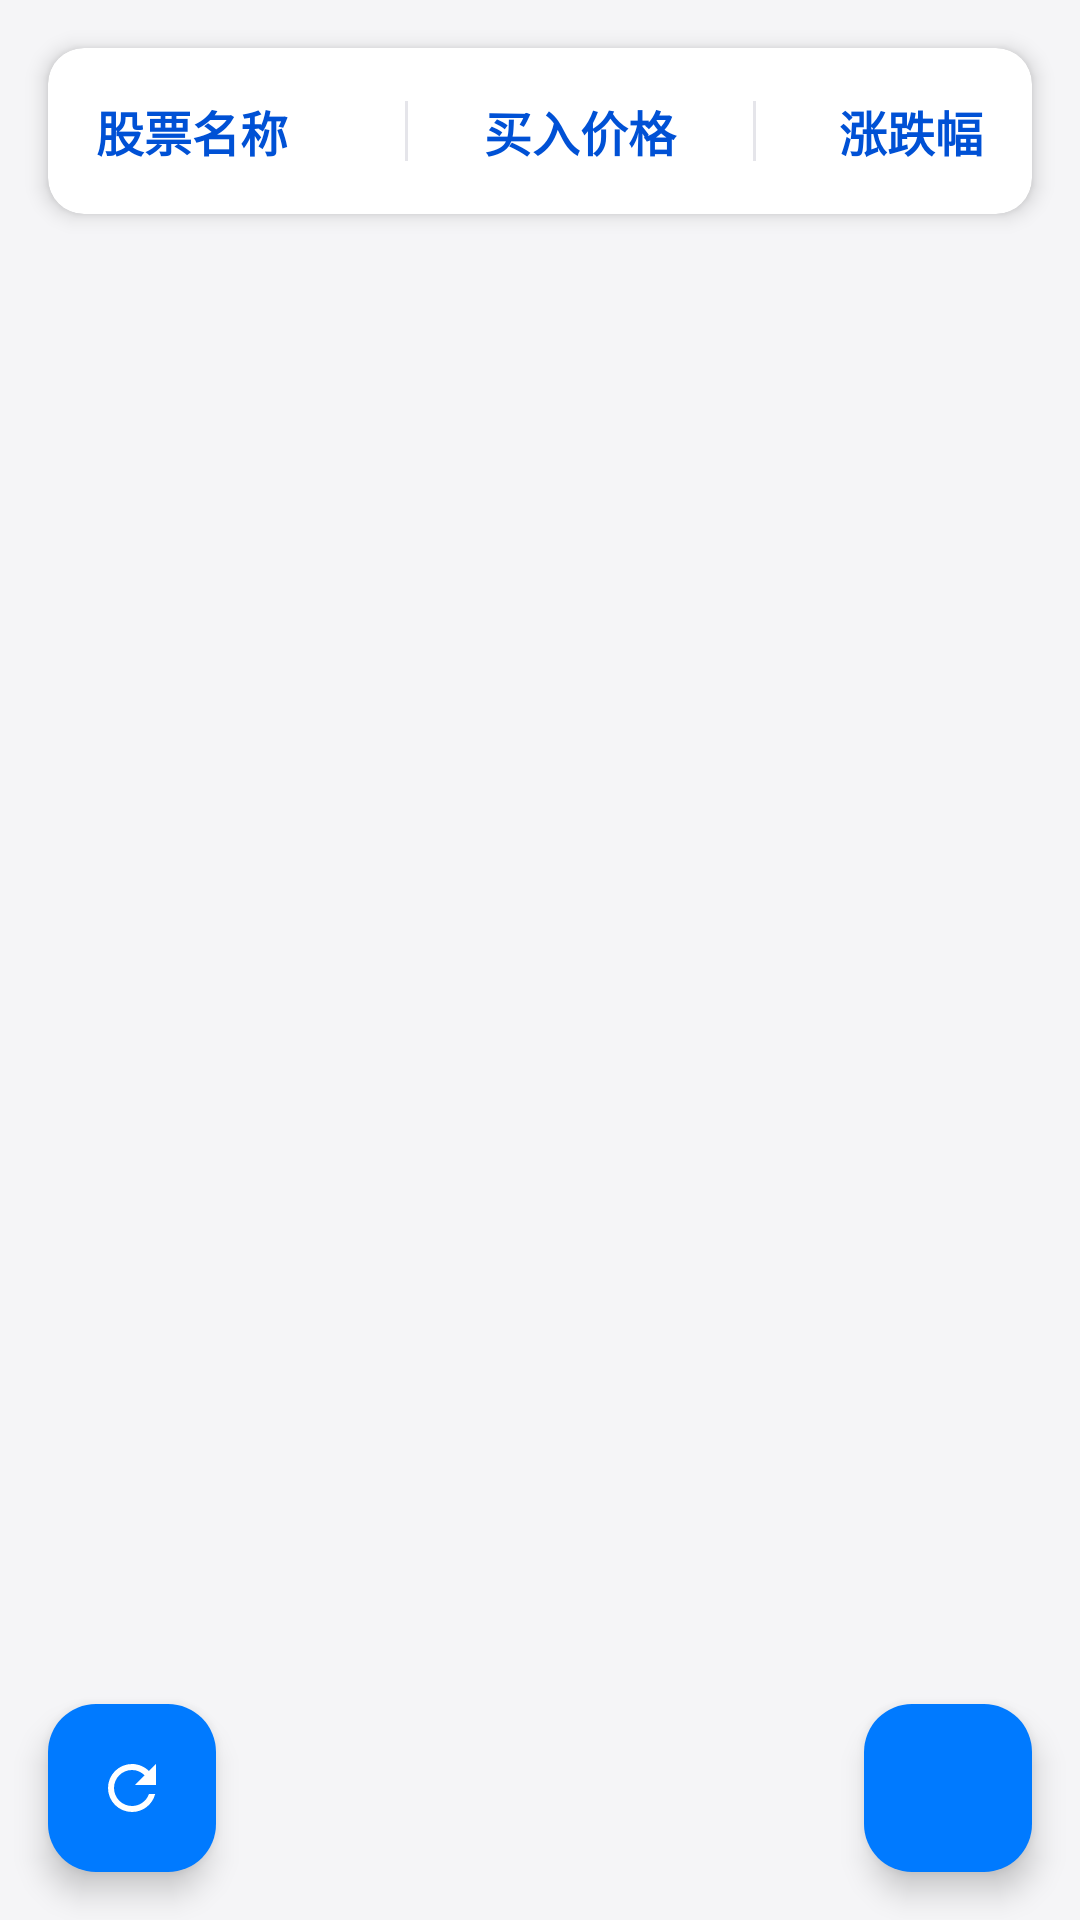

Named icons in this screenshot (1080x1920) and their bounding boxes, (x1, y1, x2, y2):
刷新: (48, 1704, 216, 1872)
